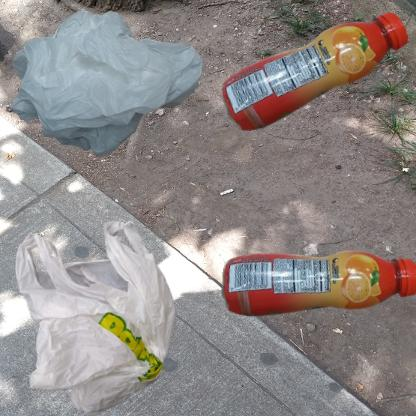bolsa: (10, 213, 192, 416), (10, 10, 203, 158)
botella: (213, 213, 416, 376), (213, 10, 416, 142)
